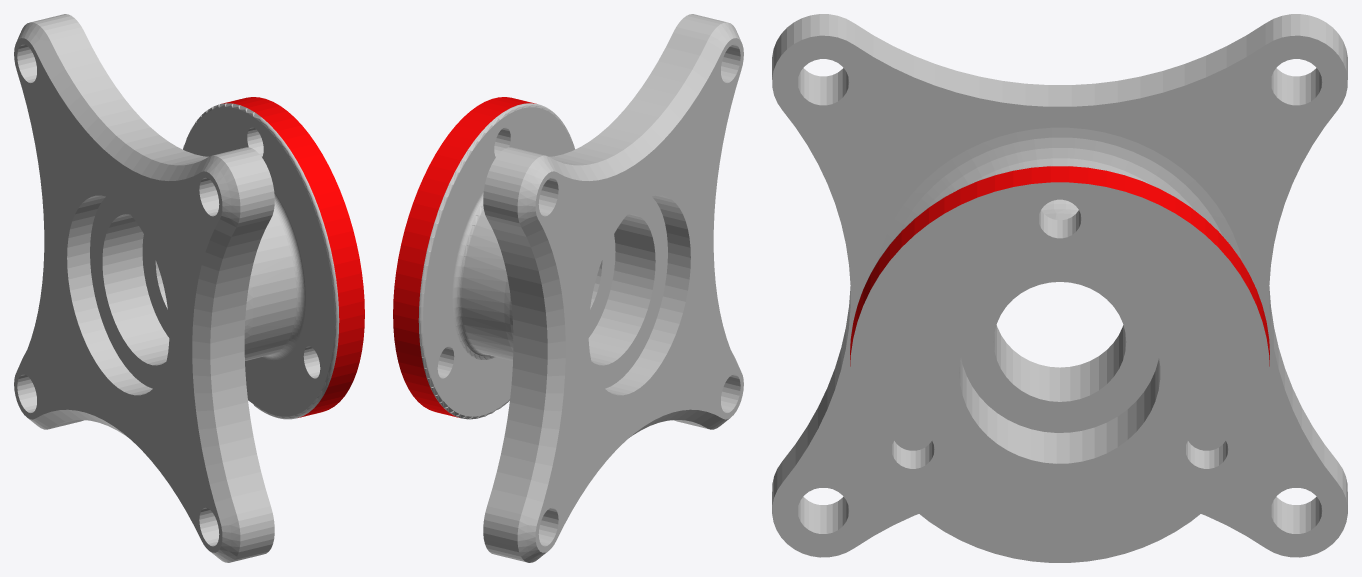
The model's file is Cubo_Dianteiro_stp_33.obj.
3 views of the same model, side by side, from view 1: azimuth 30°, elevation 25°; view 2: azimuth 150°, elevation 25°; view 3: azimuth 270°, elevation 25° (orthographic). The views are drawn at different scales.
Parts seen in each view (by area): view 1: Object1; view 2: Object1; view 3: Object1.
Part boxes in pixels (x1=…): Object1: x1=14, y1=14, x2=364, y2=562; Object1: x1=393, y1=14, x2=743, y2=562; Object1: x1=772, y1=14, x2=1347, y2=562.
Size of the model in its own units: 58 by 134 by 134.
